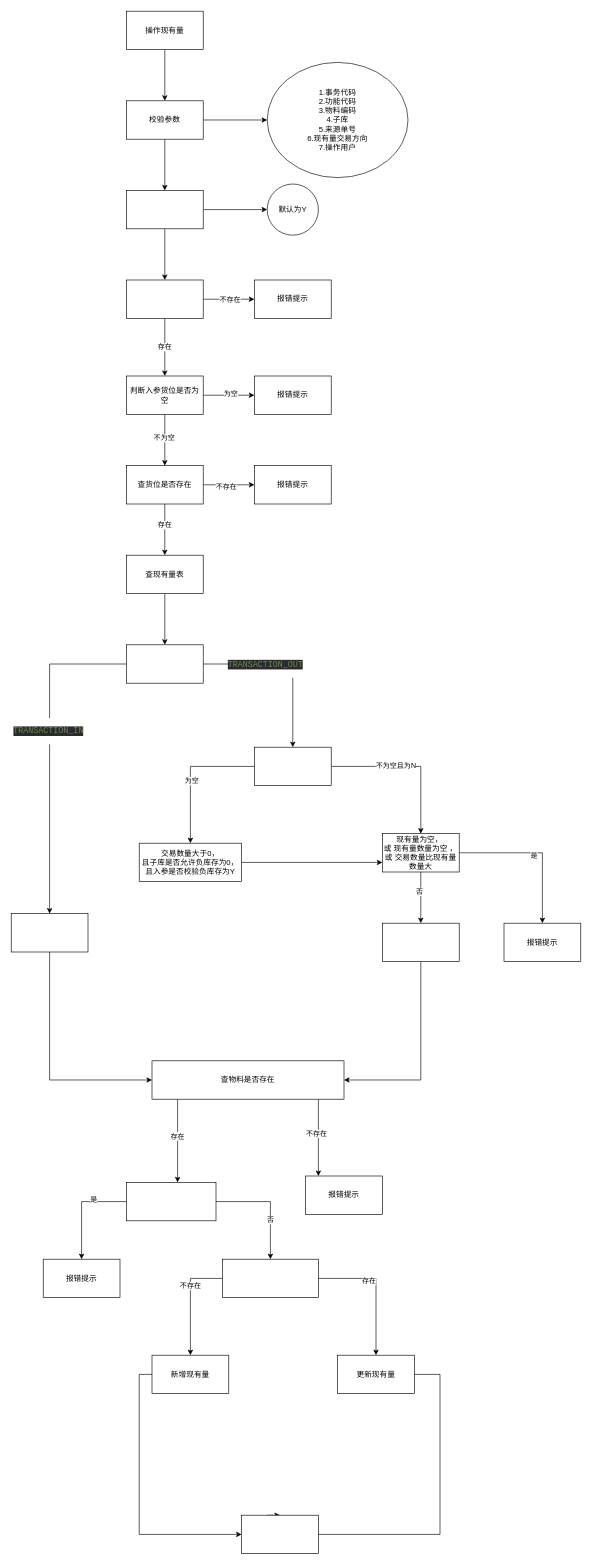
Image size: 592x1565. Some labels were removed from this diagram. Here are the shapes that lost their labels. From the top down, the box of each, then its label:
(126, 190, 203, 229): 判断是否校验负库存(Y:校验，N：不校验)
(126, 279, 203, 318): 查子库是否存在
(126, 644, 203, 683): 交易方向
(254, 747, 331, 786): 是否跳过负库存
(11, 913, 88, 952): 交易数量不变
(382, 923, 459, 962): 交易数量乘以 -1
(126, 1182, 216, 1221): 子库表校验物料状态为Y 且物料状态是Inactive
(222, 1259, 318, 1298): 校验现有量表是否存在
(241, 1515, 318, 1554): 写入现有量日志表
